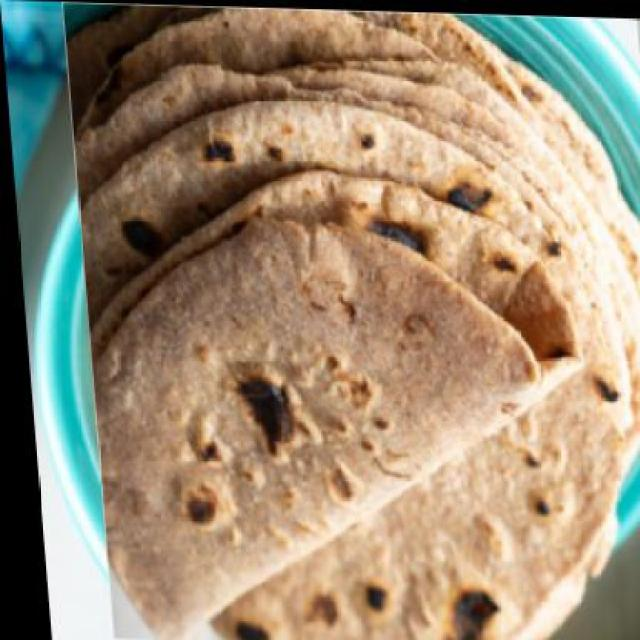chapati: (61, 0, 638, 638)
